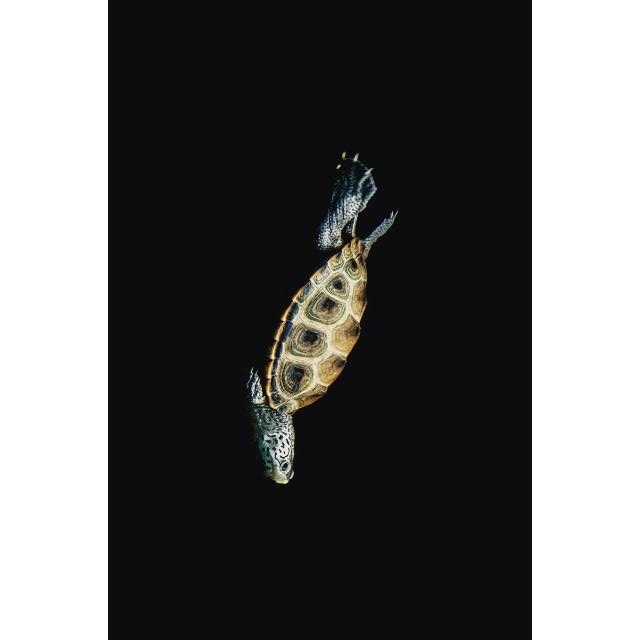turtle: (242, 148, 402, 483)
